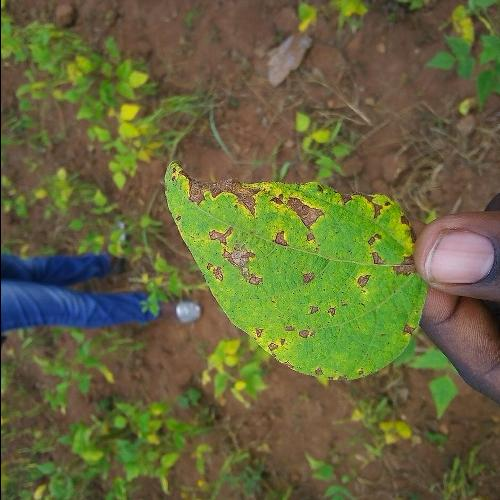hawar: (205, 186, 326, 291), (348, 184, 411, 303), (247, 300, 339, 374)
